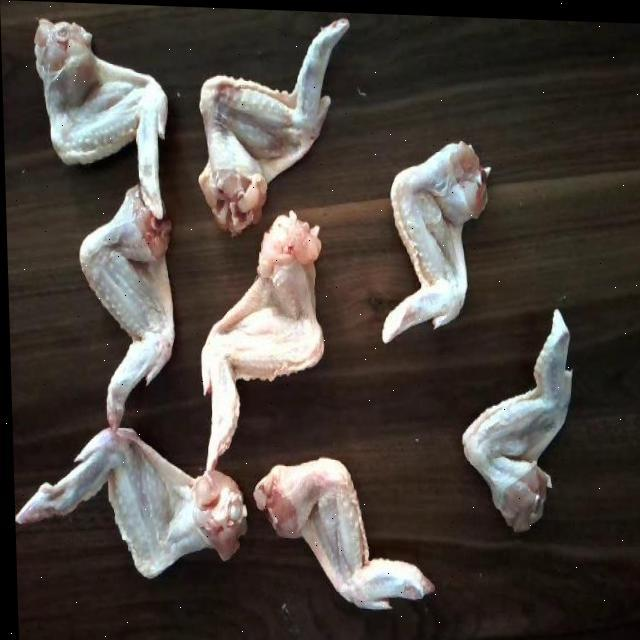wing: (17, 418, 248, 590), (198, 11, 352, 244), (192, 200, 331, 457), (358, 123, 496, 361), (250, 446, 434, 623), (64, 175, 184, 445), (453, 305, 581, 556), (26, 17, 176, 221)
